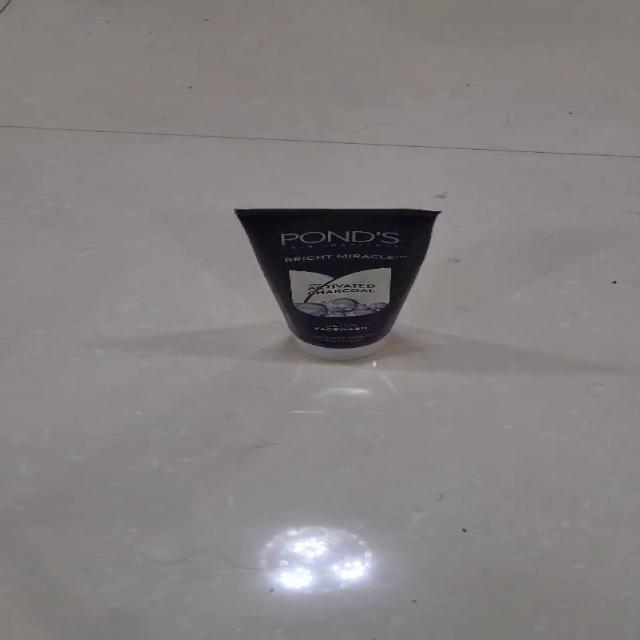plastic: (232, 206, 442, 361)
